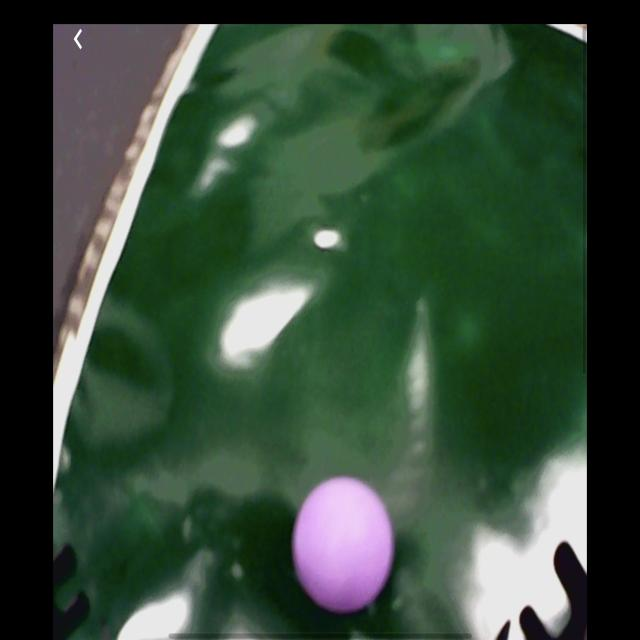ball: (294, 478, 394, 617)
